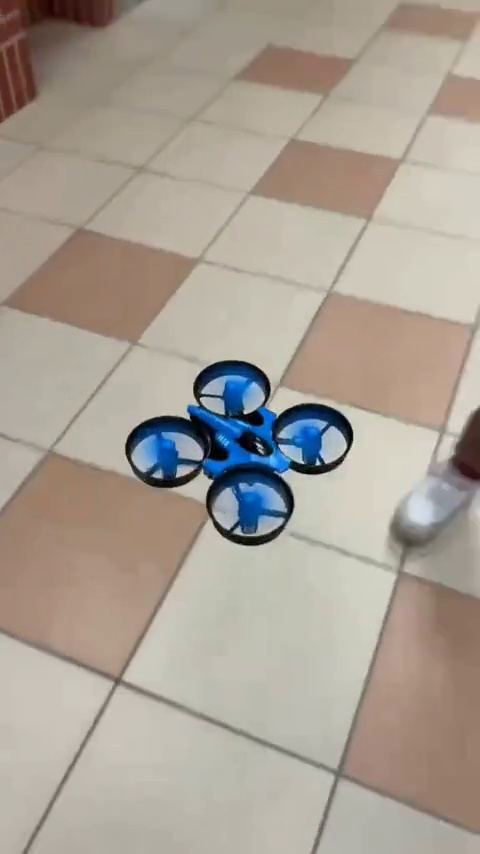drone: (129, 361, 352, 539)
